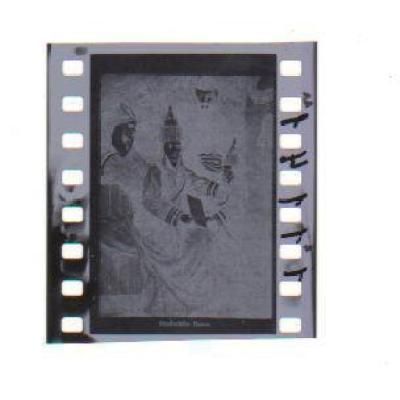photos_negatives: (94, 41, 276, 326)
